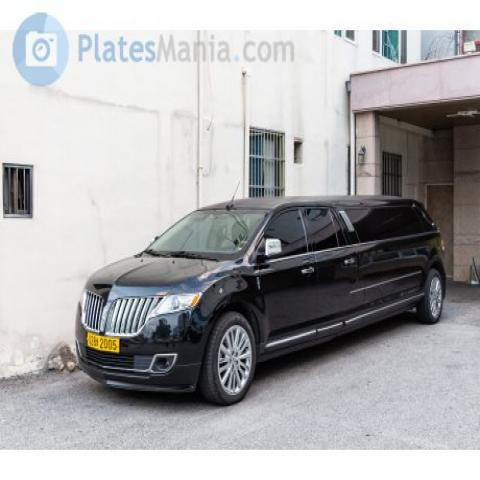LP: (80, 328, 125, 355)
